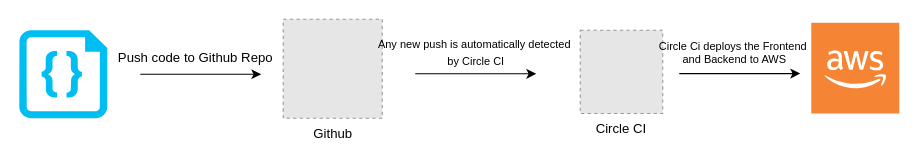
This 919x161 diagram has some shape labels left out. Grey dashed boxes stand in for pictures. Each missing label, with the centre of its shape:
"AWS Cloud" belongs at (x=854, y=68).
"Code" belongs at (x=63, y=74).
